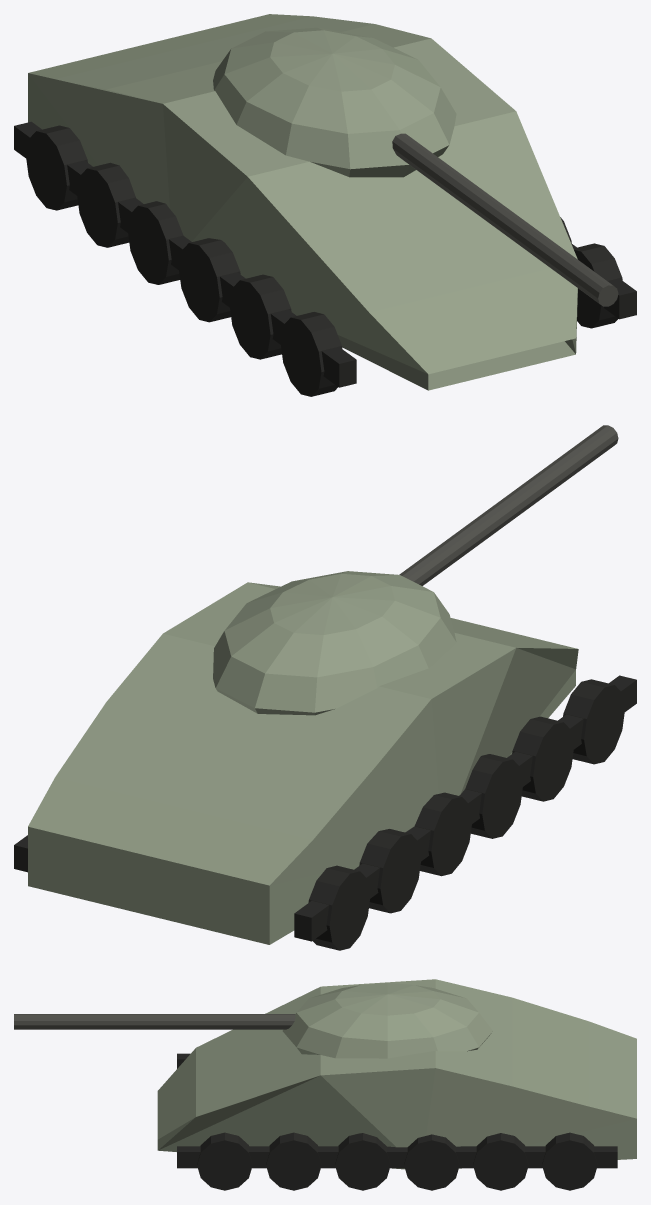
File: m7_priest.glb
The picture shows the model from 3 angles, top to bottom: view 1: azimuth 30°, elevation 25°; view 2: azimuth 150°, elevation 25°; view 3: azimuth 270°, elevation 25°; orthographic projection. The views are drawn at different scales.
Parts seen in each view (by area): view 1: Hull, Turret, Gun, Track_L, Wheel_L_01, Wheel_L_02, Wheel_L_06, Wheel_L_03, Wheel_L_05, Wheel_L_04, Wheel_R_01, Track_R; view 2: Hull, Turret, Gun, Track_L, Wheel_L_06, Wheel_L_01, Wheel_L_02, Wheel_L_05, Wheel_L_03, Wheel_L_04; view 3: Hull, Turret, Gun, Track_R, Wheel_R_01, Wheel_R_02, Wheel_R_06, Wheel_R_05, Wheel_R_03, Wheel_R_04.
Part boxes in pixels (x1,y1,x2,y2): Hull: (28,14,577,390); Turret: (213,27,456,177); Gun: (392,133,618,306); Track_L: (14,121,356,387); Wheel_L_01: (280,312,342,396); Wheel_L_02: (229,274,291,359); Wheel_L_06: (26,125,87,210); Wheel_L_03: (178,238,240,322); Wheel_L_05: (77,162,135,247); Wheel_L_04: (127,201,183,284); Wheel_R_01: (573,243,622,328); Track_R: (571,243,636,319); Hull: (28,582,578,944); Turret: (213,571,456,715); Gun: (399,425,618,585); Track_L: (294,675,636,941); Wheel_L_06: (308,865,370,950); Wheel_L_01: (563,679,624,764); Wheel_L_02: (512,716,573,801); Wheel_L_05: (359,829,421,913); Wheel_L_03: (465,754,523,838); Wheel_L_04: (414,792,472,876); Hull: (157,979,636,1169); Turret: (282,983,492,1058); Gun: (14,1014,295,1029); Track_R: (177,1146,617,1168); Wheel_R_01: (197,1132,252,1190); Wheel_R_02: (266,1132,321,1190); Wheel_R_06: (542,1132,597,1190); Wheel_R_05: (473,1133,528,1190); Wheel_R_03: (335,1133,390,1190); Wheel_R_04: (404,1134,459,1190).
Size of the model in its own units: 2.98 by 2.03 by 7.83.
